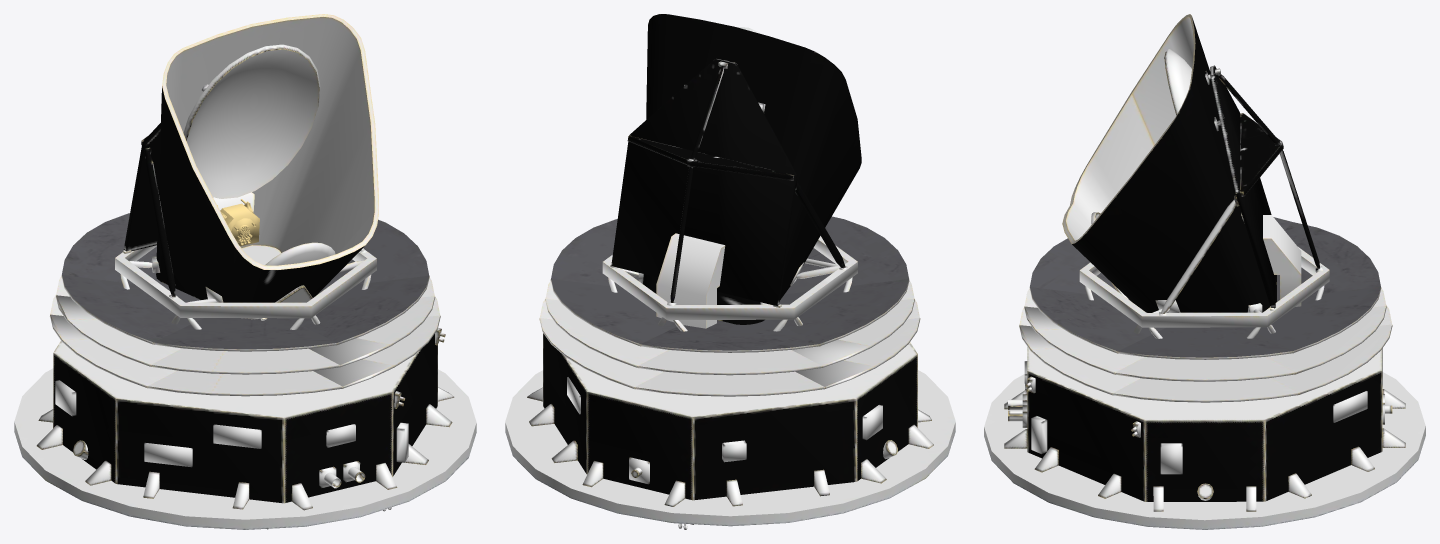
Rendered from planck.glb.
The picture shows the model from 3 angles, left to right: view 1: azimuth 30°, elevation 25°; view 2: azimuth 150°, elevation 25°; view 3: azimuth 270°, elevation 25°; orthographic projection. The views are drawn at different scales.
Parts seen in each view (by area): view 1: tele, svm, vgroove, solar; view 2: tele, svm, vgroove, solar; view 3: tele, svm, vgroove, solar.
Boxes of the visible parts, x1=… form: tele: x1=115, y1=14, x2=378, y2=318; svm: x1=36, y1=192, x2=454, y2=529; vgroove: x1=49, y1=213, x2=440, y2=396; solar: x1=14, y1=368, x2=476, y2=529; tele: x1=602, y1=14, x2=861, y2=324; svm: x1=527, y1=233, x2=933, y2=529; vgroove: x1=539, y1=216, x2=920, y2=396; solar: x1=505, y1=370, x2=955, y2=526; tele: x1=1062, y1=14, x2=1329, y2=327; svm: x1=1004, y1=215, x2=1405, y2=511; vgroove: x1=1019, y1=217, x2=1392, y2=402; solar: x1=984, y1=372, x2=1425, y2=529.
Bounding box in the file's own units: 163 × 168 × 163.
1 material, 1 textured.
